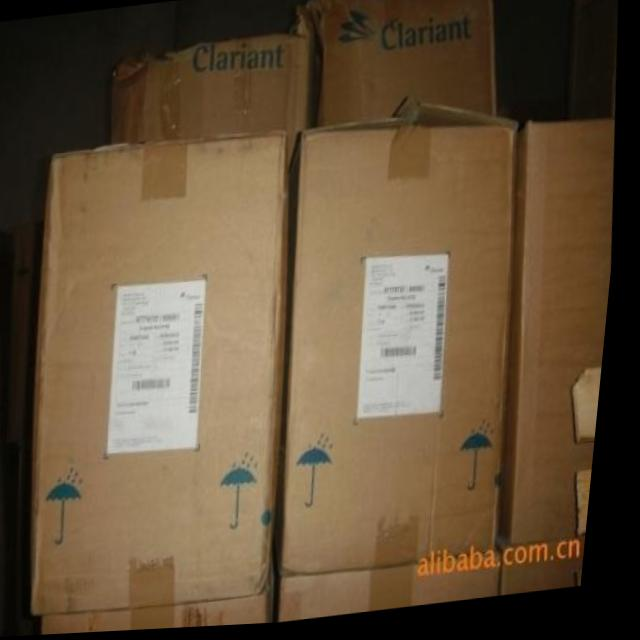box: (45, 136, 293, 618), (292, 104, 518, 580), (506, 125, 616, 553), (111, 5, 320, 173), (303, 0, 498, 134), (52, 565, 290, 636), (290, 559, 512, 621), (506, 537, 597, 600)
